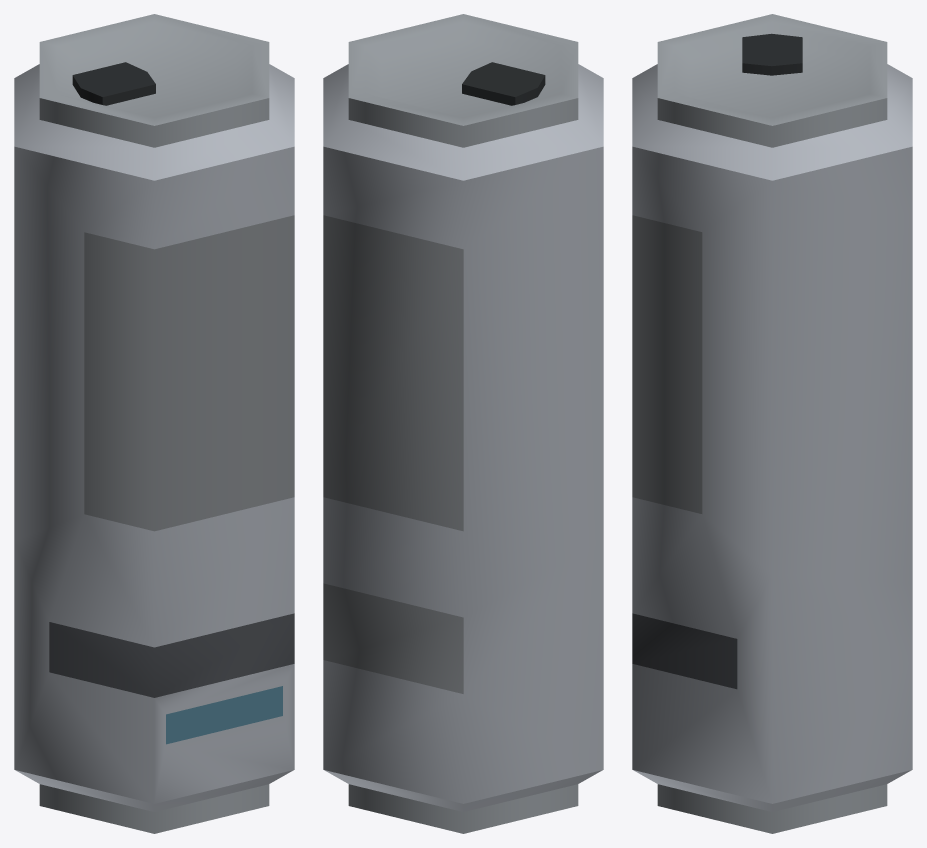
Rendered from SM_Prop_EnergyDrink_01.obj.
3 renders of one model, left to right at view 1: azimuth 30°, elevation 25°; view 2: azimuth 150°, elevation 25°; view 3: azimuth 270°, elevation 25°, orthographic.
Parts seen in each view (by area): view 1: SM_Prop_EnergyDrink_01_Mat_SwatchOverlay_PolygonOffice_01_Inst; view 2: SM_Prop_EnergyDrink_01_Mat_SwatchOverlay_PolygonOffice_01_Inst; view 3: SM_Prop_EnergyDrink_01_Mat_SwatchOverlay_PolygonOffice_01_Inst.
Boxes of the visible parts, x1=… form: SM_Prop_EnergyDrink_01_Mat_SwatchOverlay_PolygonOffice_01_Inst: x1=14, y1=14, x2=294, y2=833; SM_Prop_EnergyDrink_01_Mat_SwatchOverlay_PolygonOffice_01_Inst: x1=323, y1=14, x2=603, y2=833; SM_Prop_EnergyDrink_01_Mat_SwatchOverlay_PolygonOffice_01_Inst: x1=632, y1=14, x2=912, y2=833.
Size of the model in its own units: 0.1184 by 0.2859 by 0.1025.
Materials: 1 (1 with a texture image).
